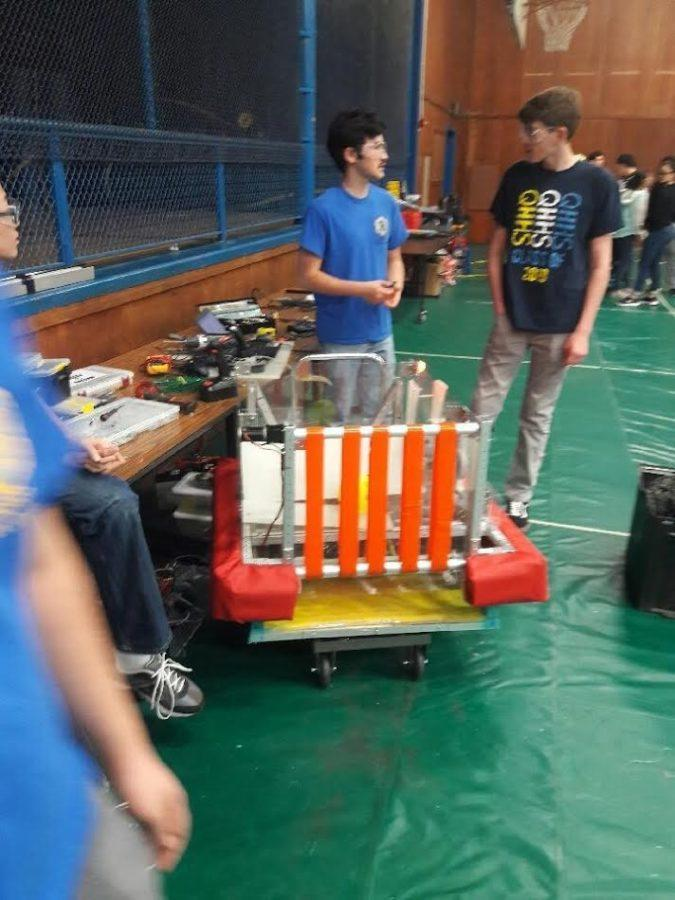robot: (206, 351, 558, 645)
